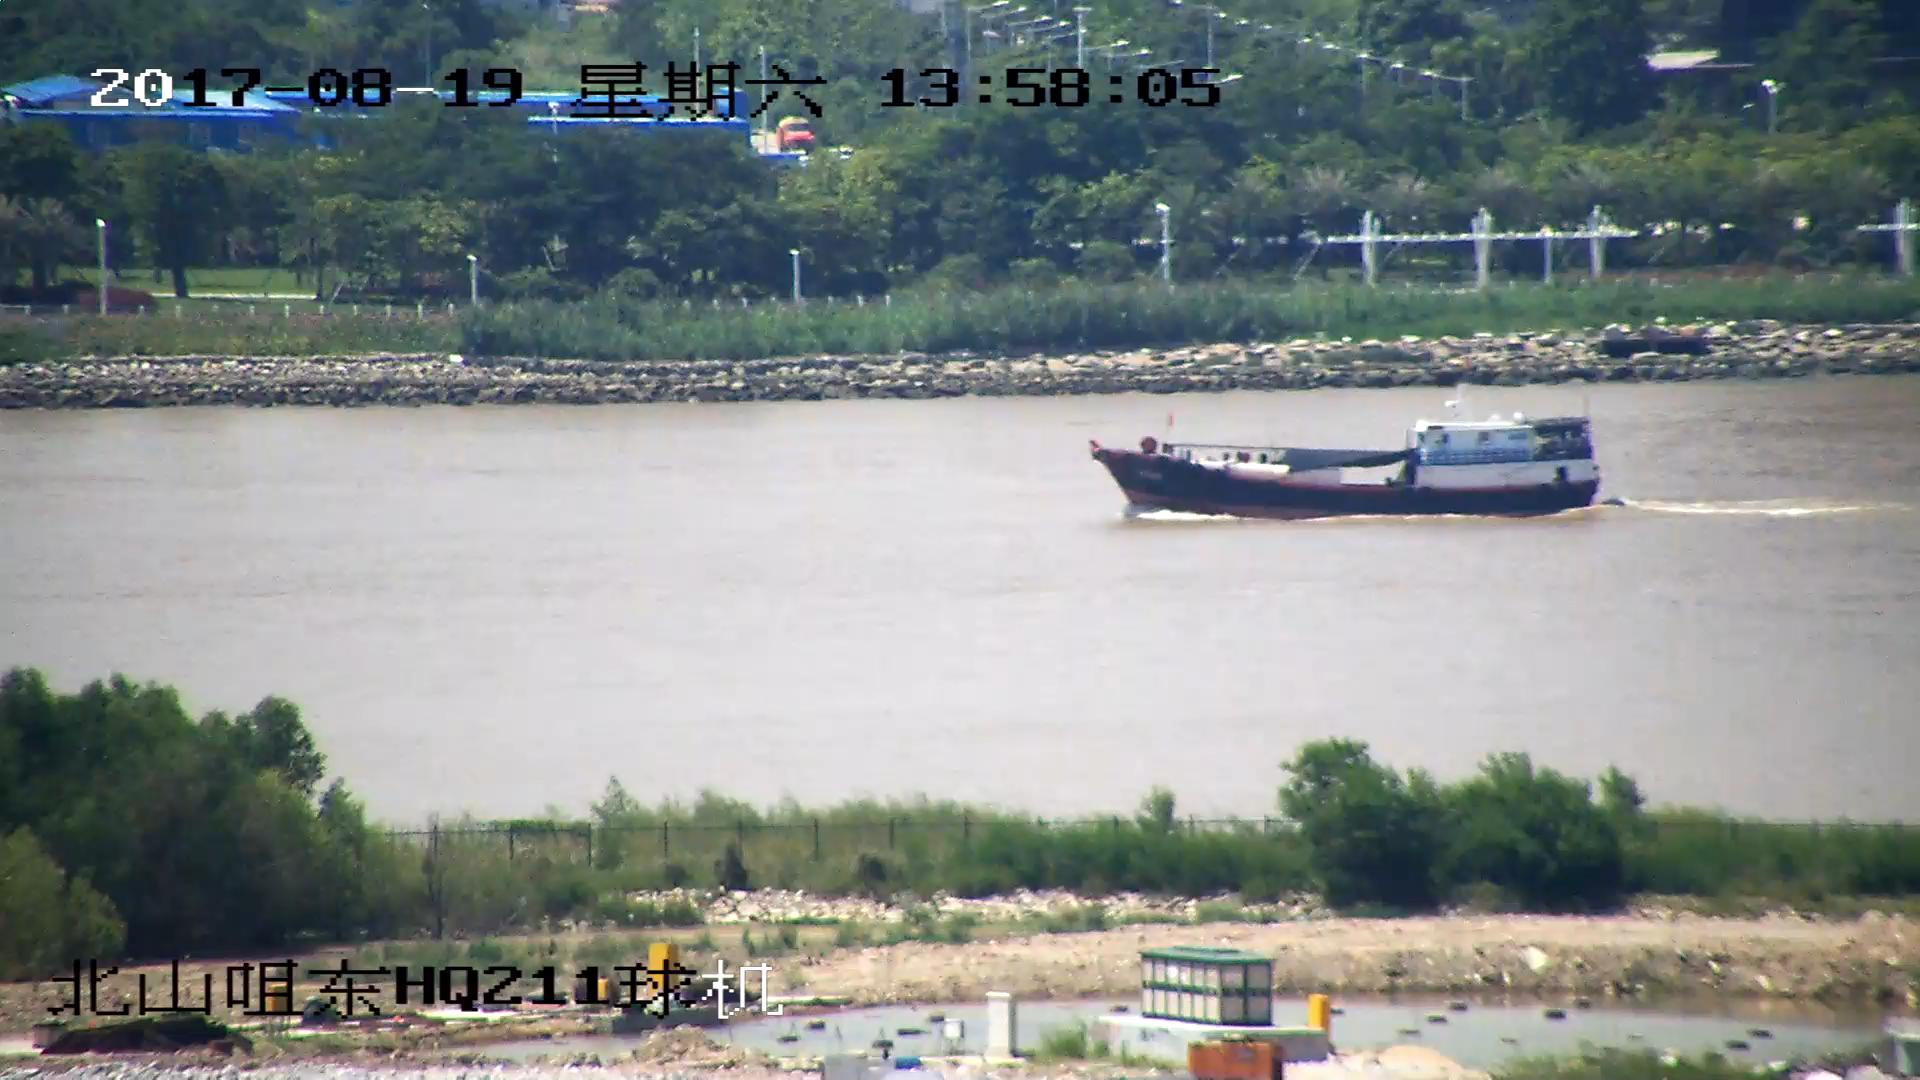fishing boat: (1093, 412, 1601, 518)
